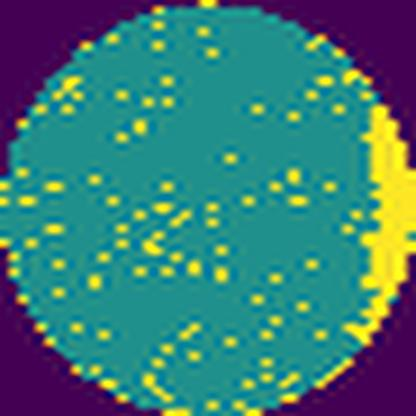Edge-Loc: (358, 92, 416, 345)
